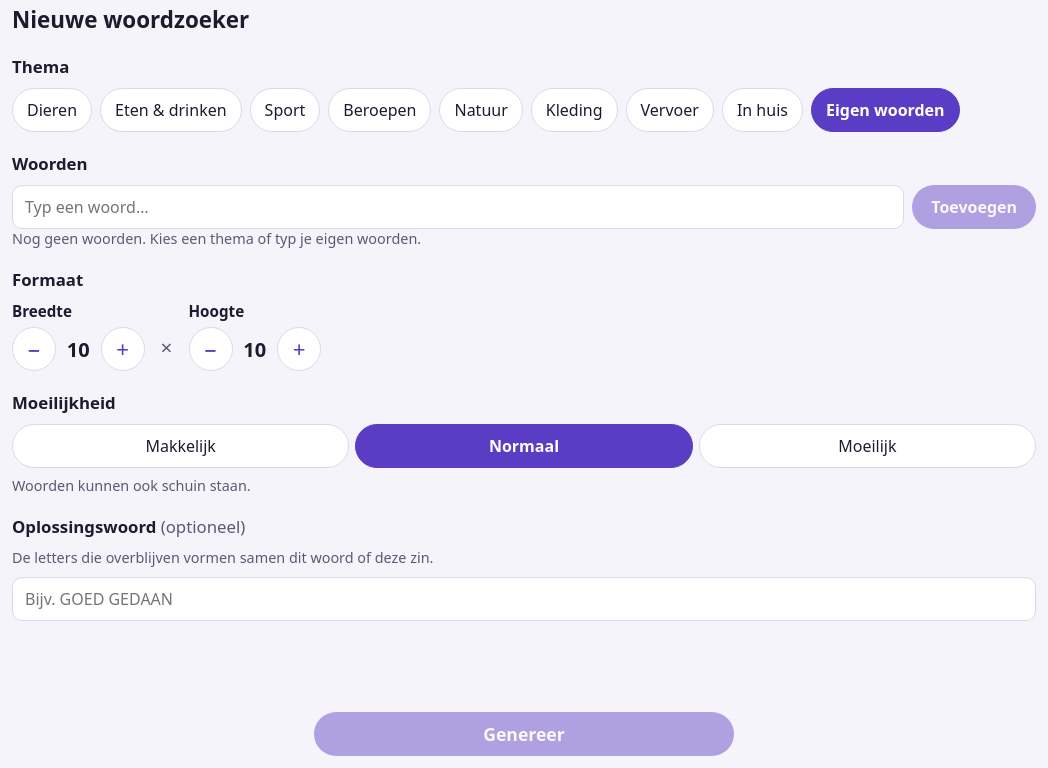
Test: SetupScreen › explains invalid and duplicate words
This screenshot has width=1048, height=768.
Type "kat" into the field named "Woord toevoegen" at (458, 207), box [12,185,904,229]
Then press Enter
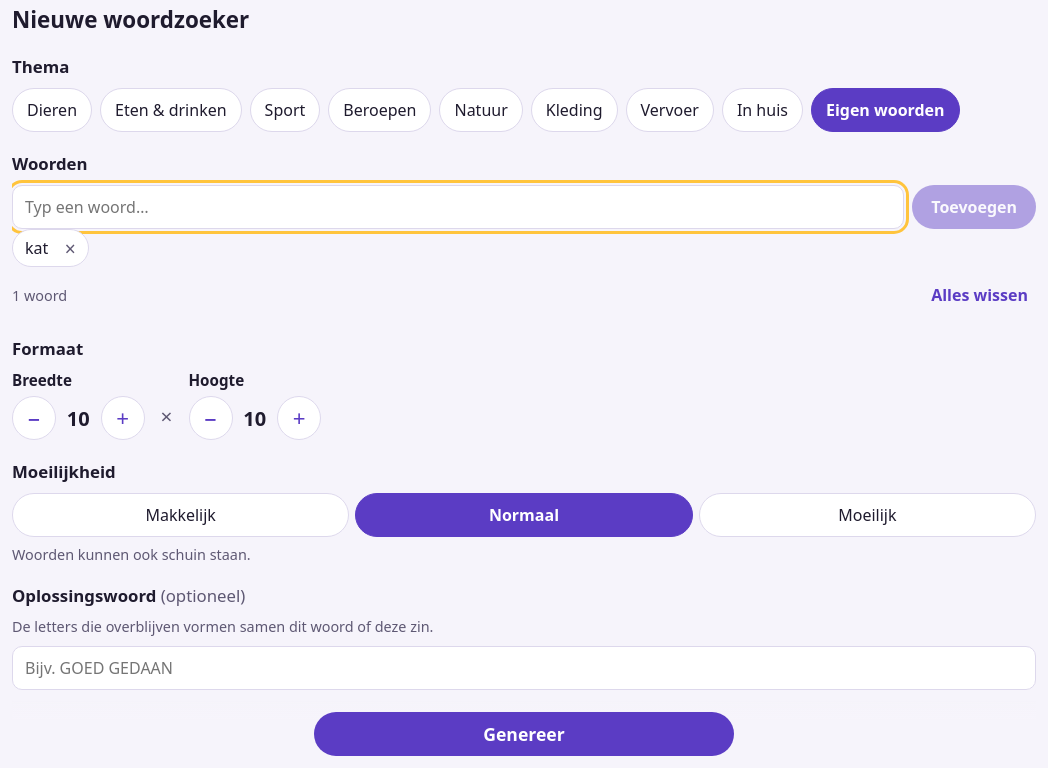
Type "KAT, a, h0nd" into the field named "Woord toevoegen" at (458, 207), box [12,185,904,229]
Then press Enter
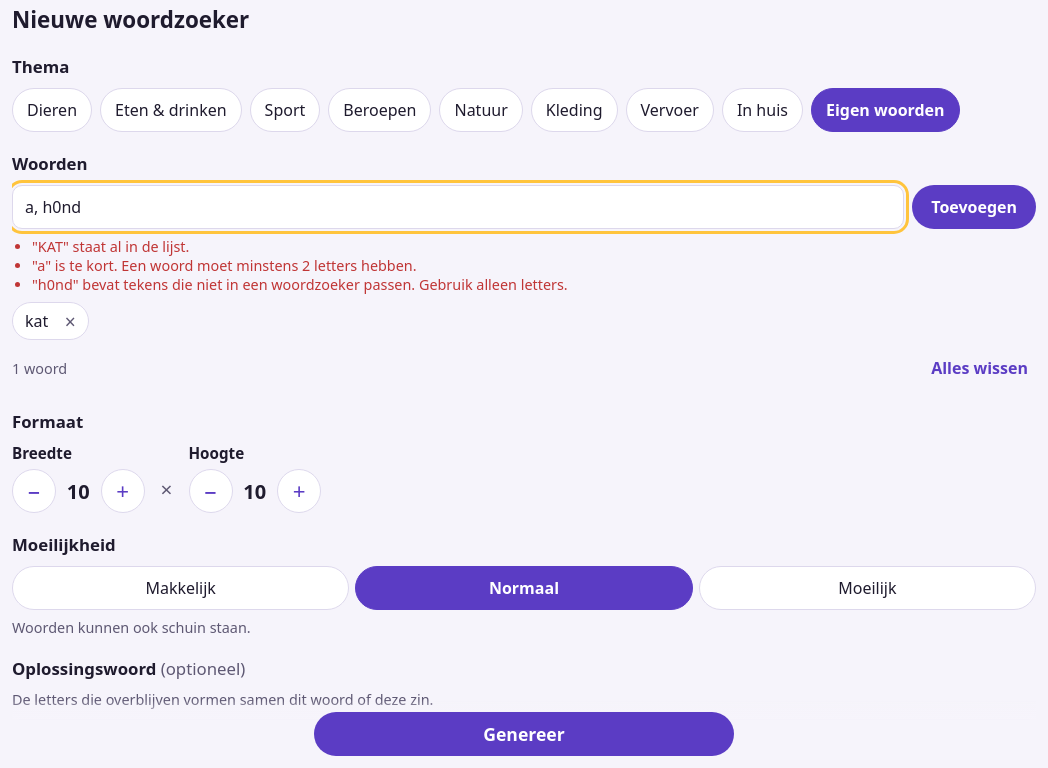
expect the message shows "\"KAT\" staat al in de lijst.": met, box [32,237,189,256]
expect the message shows "te kort": met, box [32,256,417,275]
expect the message shows "Gebruik alleen letters": met, box [32,275,568,294]
